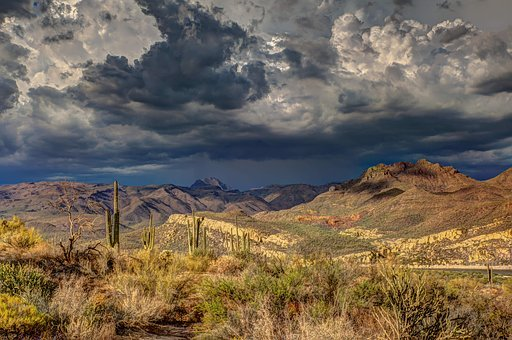field: (7, 213, 512, 339)
mountain: (30, 167, 510, 222)
sky: (2, 2, 511, 191)
